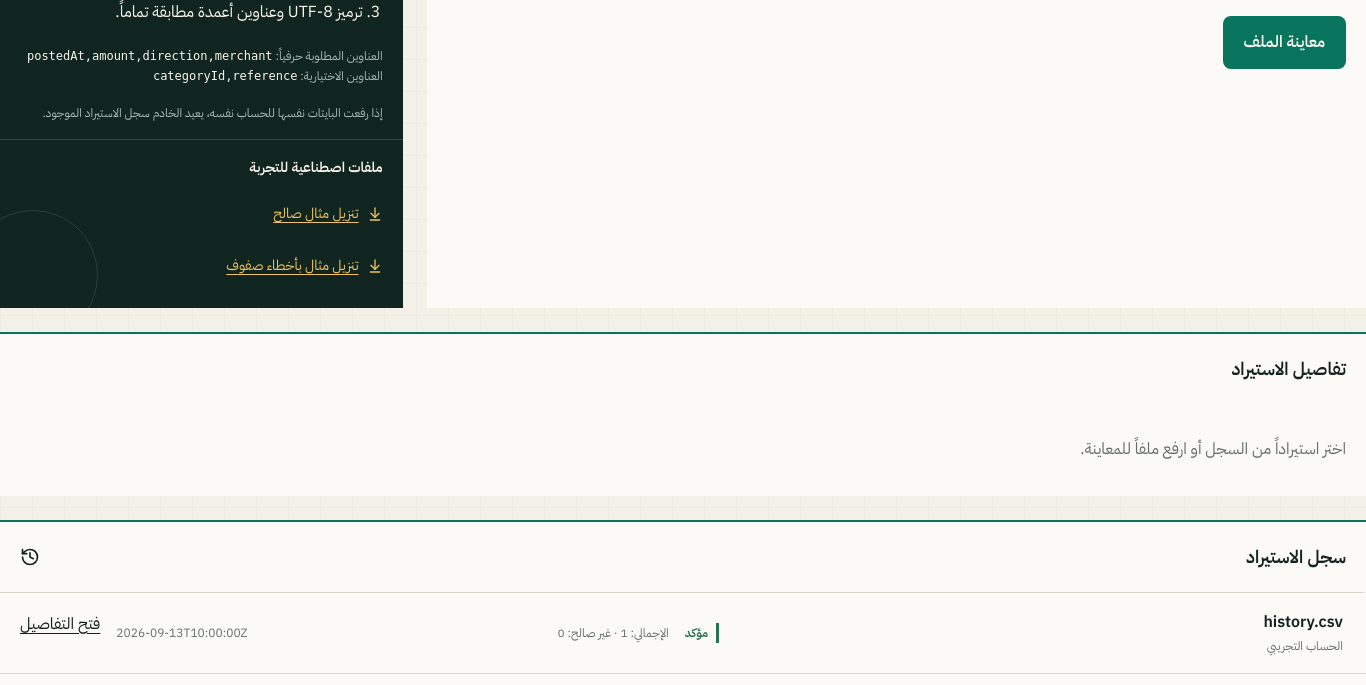
Test: ImportsPage › loads historical import details and preserves the committed result
(page scrolled)
Click the button "history.csv": (683, 633) [0,592,1365,673]
(page scrolled)
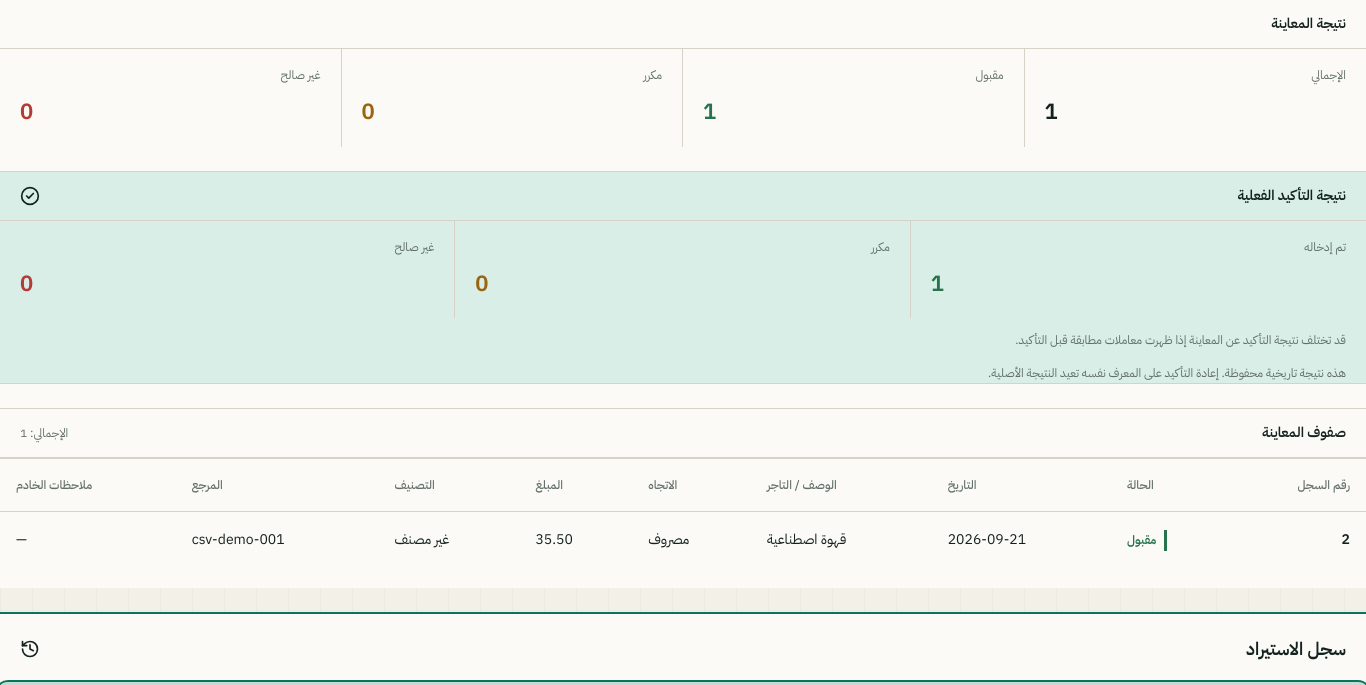
Expected: the heading "نتيجة التأكيد الفعلية" is shown, [1237,184,1346,208]
Expected: the text "نتيجة تاريخية محفوظة" is shown, [988,364,1346,382]
